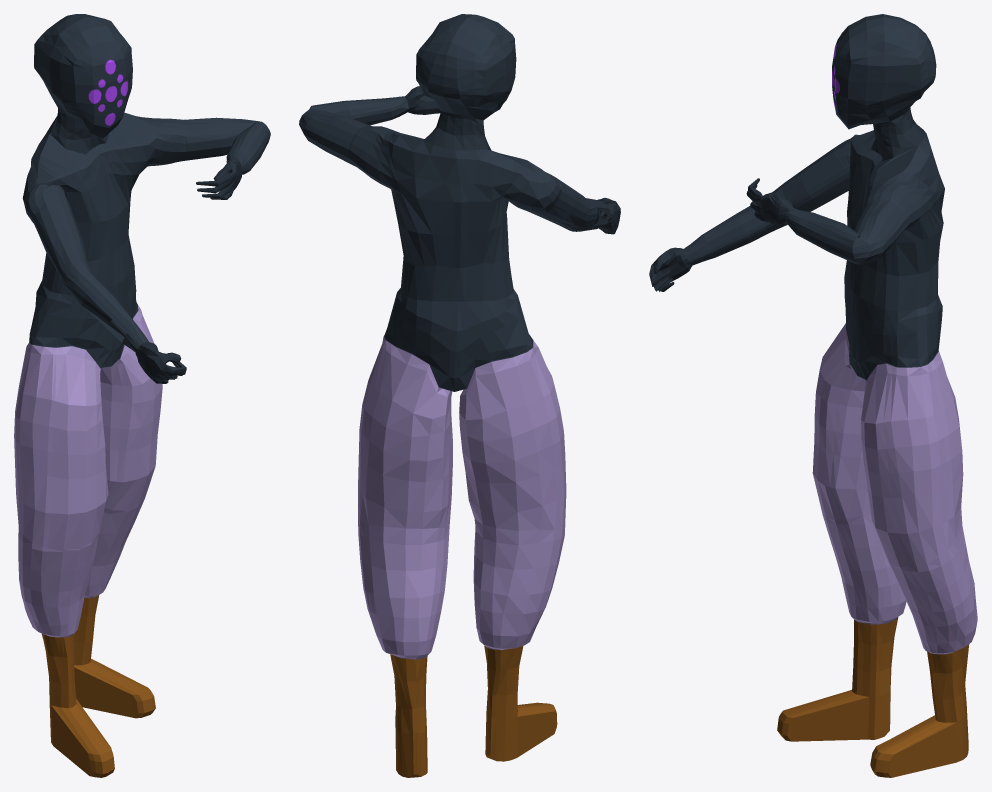
File: Oracle_Reload_000003.obj
3 renders of one model, left to right at view 1: azimuth 30°, elevation 25°; view 2: azimuth 150°, elevation 25°; view 3: azimuth 270°, elevation 25°, orthographic. The views are drawn at different scales.
Visible parts, largest first — view 1: Cube; view 2: Cube; view 3: Cube.
Part boxes in pixels (x1,y1,x2,y2): Cube: [14, 14, 270, 777]; Cube: [299, 14, 620, 777]; Cube: [649, 14, 977, 777].
Bounding box in the file's own units: 1.43 × 3.94 × 1.6.
